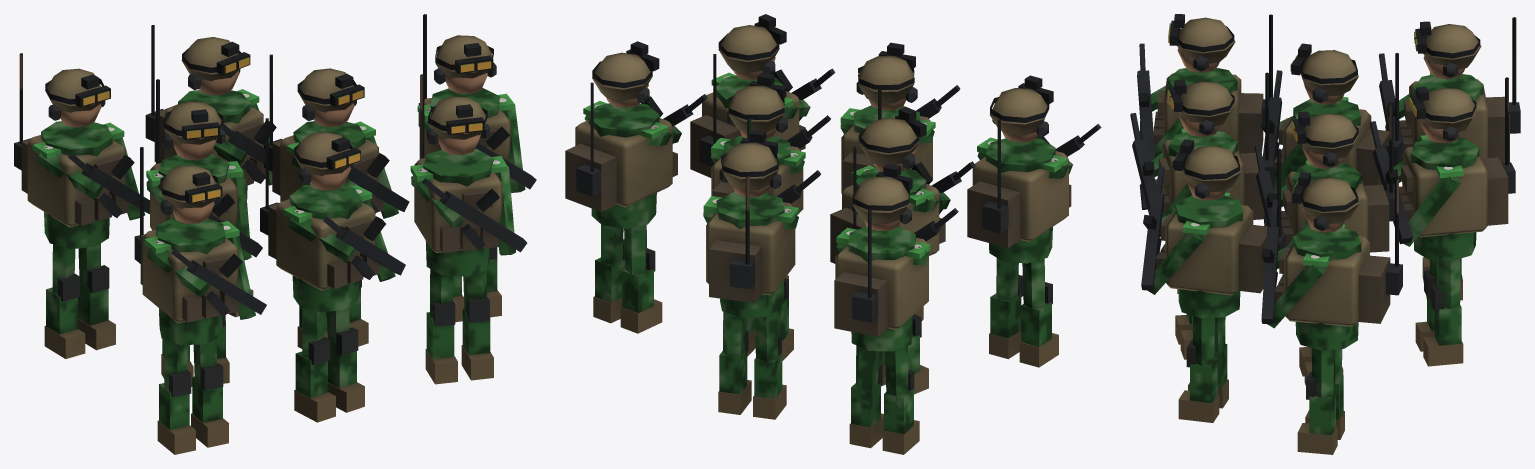
Rendered from squad_dl7_green.glb.
3 renders of one model, left to right at view 1: azimuth 30°, elevation 25°; view 2: azimuth 150°, elevation 25°; view 3: azimuth 270°, elevation 25°, orthographic. The views are drawn at different scales.
Visible parts, largest first — view 1: squad_dl7_green; view 2: squad_dl7_green; view 3: squad_dl7_green.
Boxes of the visible parts, <box> form: squad_dl7_green: <box>14,14,536,454</box>; squad_dl7_green: <box>565,14,1101,454</box>; squad_dl7_green: <box>1130,14,1520,454</box>.
Size of the model in its own units: 0.6365 by 0.3857 by 0.5164.
Materials: 1 (1 with a texture image).
